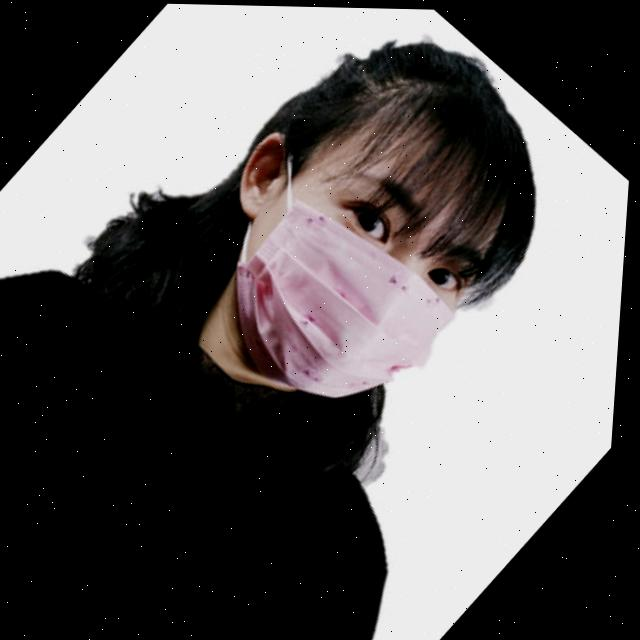Mask: (156, 128, 489, 437)
